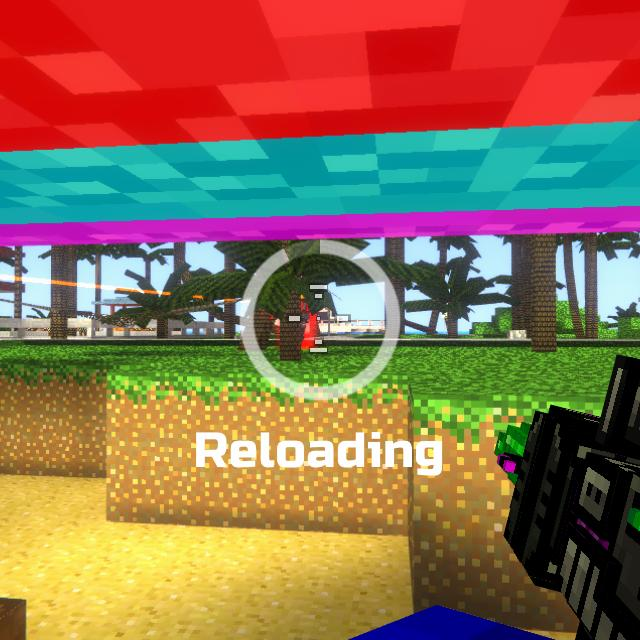Enemy: (303, 313, 315, 350)
